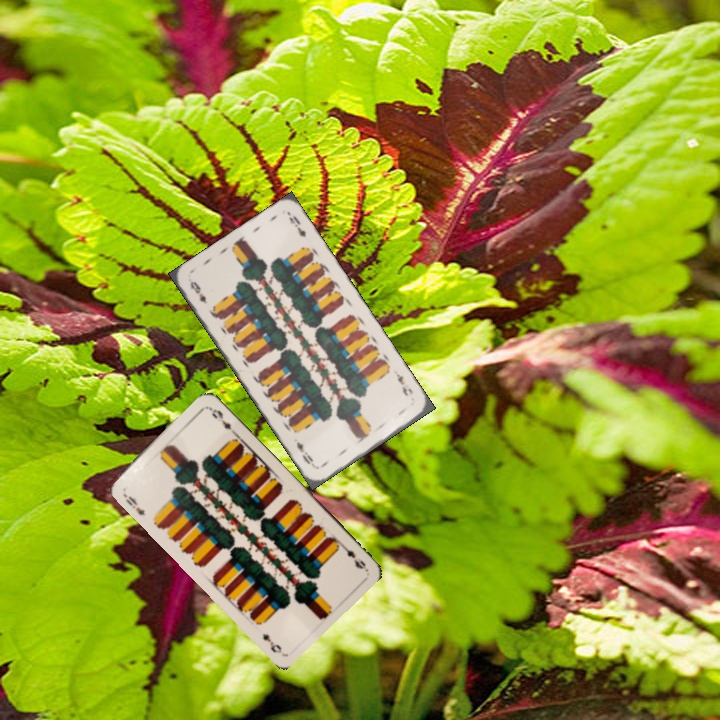E9: (334, 539, 368, 572), (119, 489, 148, 518), (186, 277, 210, 307), (392, 370, 415, 399)
